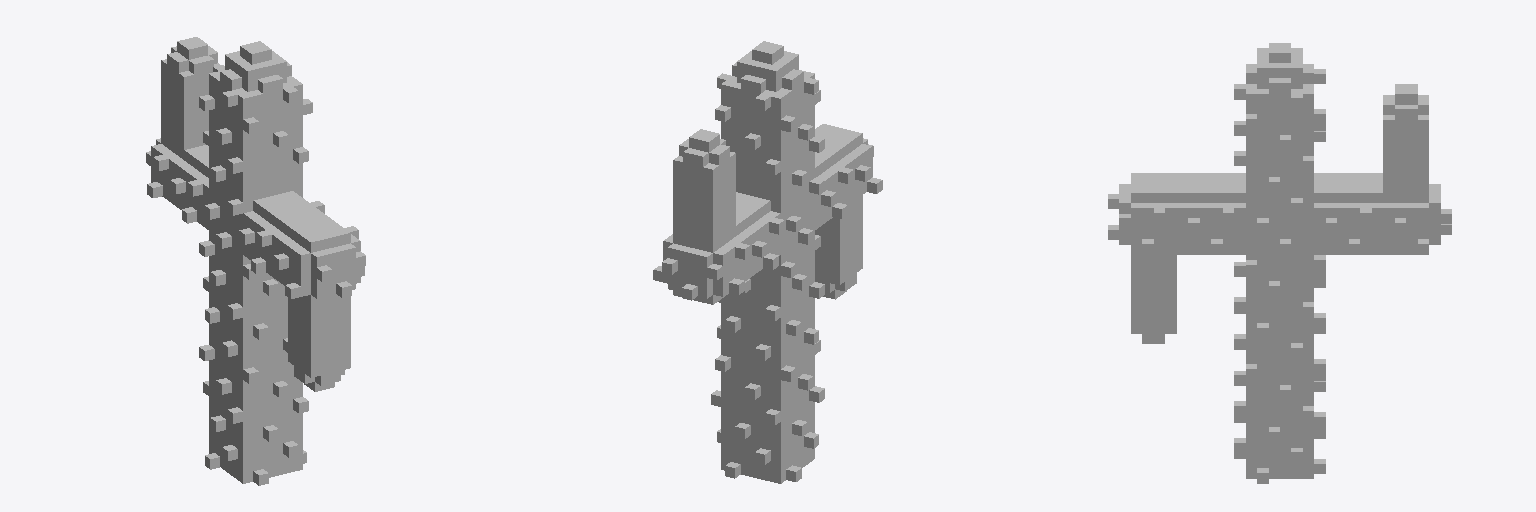
Rendered from 1.3 kaktus.obj.
3 views of the same model, side by side, from view 1: azimuth 30°, elevation 25°; view 2: azimuth 150°, elevation 25°; view 3: azimuth 270°, elevation 25° (orthographic).
Parts seen in each view (by area): view 1: object 1; view 2: object 1; view 3: object 1.
Boxes of the visible parts, x1,y1,x2,y2 form: object 1: [146, 37, 365, 485]; object 1: [653, 41, 882, 483]; object 1: [1108, 43, 1451, 483].
Size of the model in its own units: 0.8 by 4 by 3.